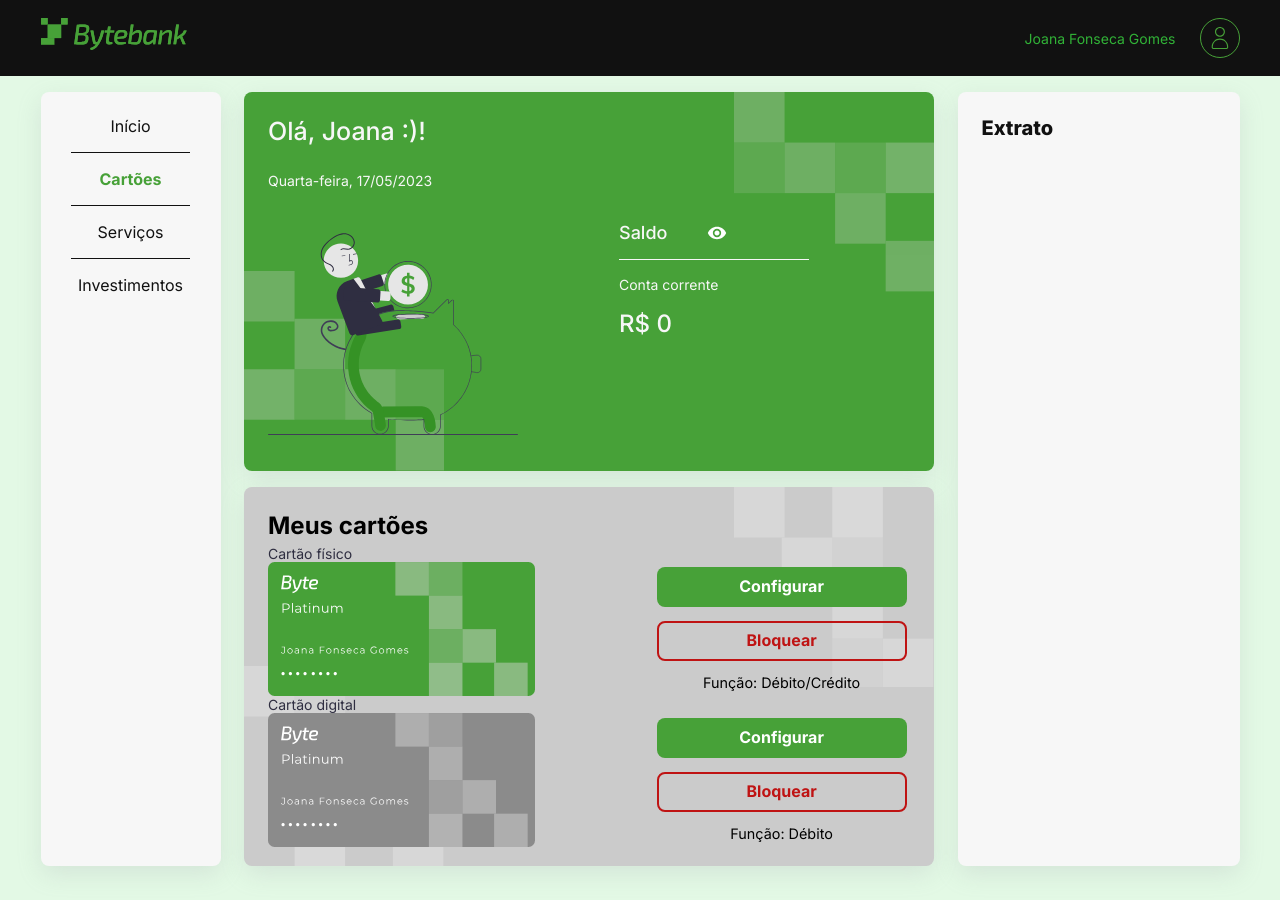
Test: Componente <App /> › Deve navegar até a página correspondente ao link clicado
This screenshot has width=1280, height=900.
Step 1. Click the link "Investimentos" → (130, 285), box [78, 275, 183, 295]
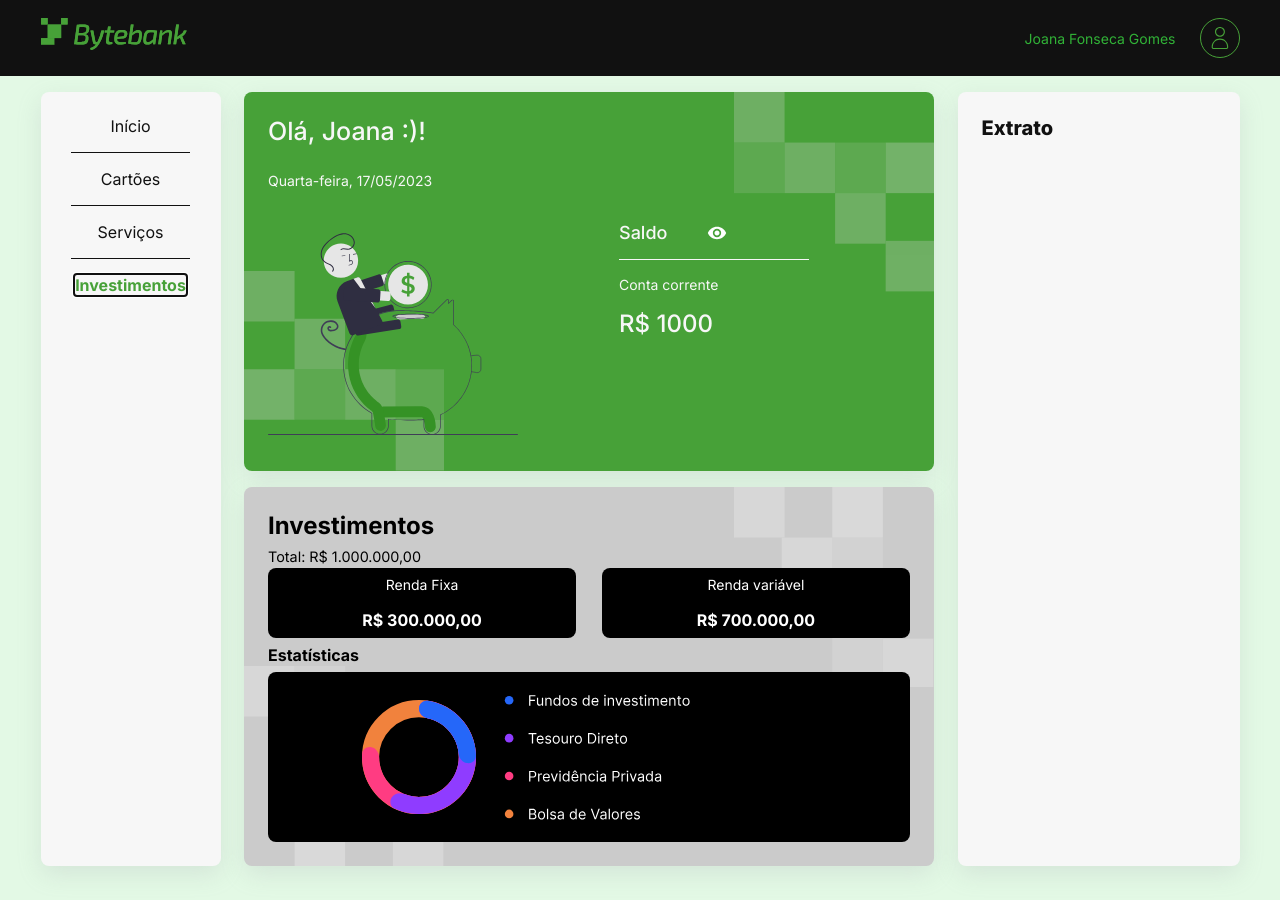
expect the heading "Estatísticas" is shown: met, box [268, 645, 359, 665]
